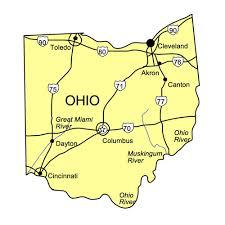ohio: (23, 19, 200, 210)
